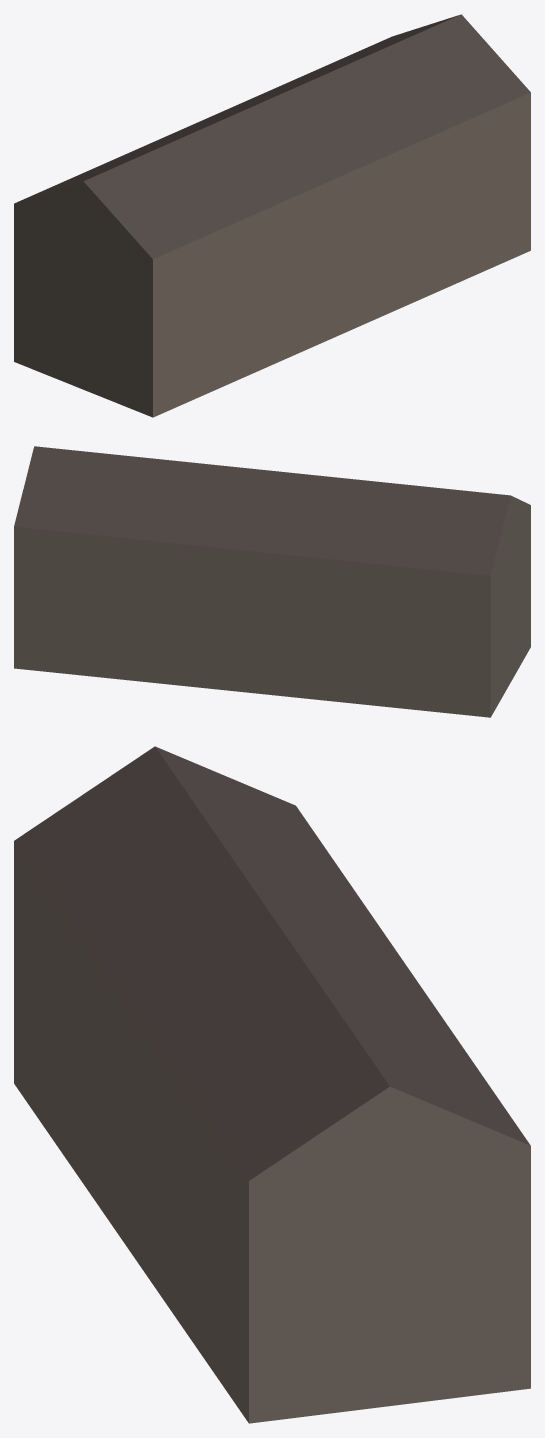
3 views of the same model, one above another, from view 1: azimuth 30°, elevation 25°; view 2: azimuth 150°, elevation 25°; view 3: azimuth 270°, elevation 25° (orthographic). The views are drawn at different scales.
Visible parts, largest first — view 1: HP-w1365659891; view 2: HP-w1365659891; view 3: HP-w1365659891.
Boxes of the visible parts, box(x1,y1,x2,y2) form: HP-w1365659891: box(14, 14, 530, 417); HP-w1365659891: box(14, 446, 530, 717); HP-w1365659891: box(14, 746, 530, 1423).
Bounding box in the file's own units: 19.9 × 7.9 × 11.59.
